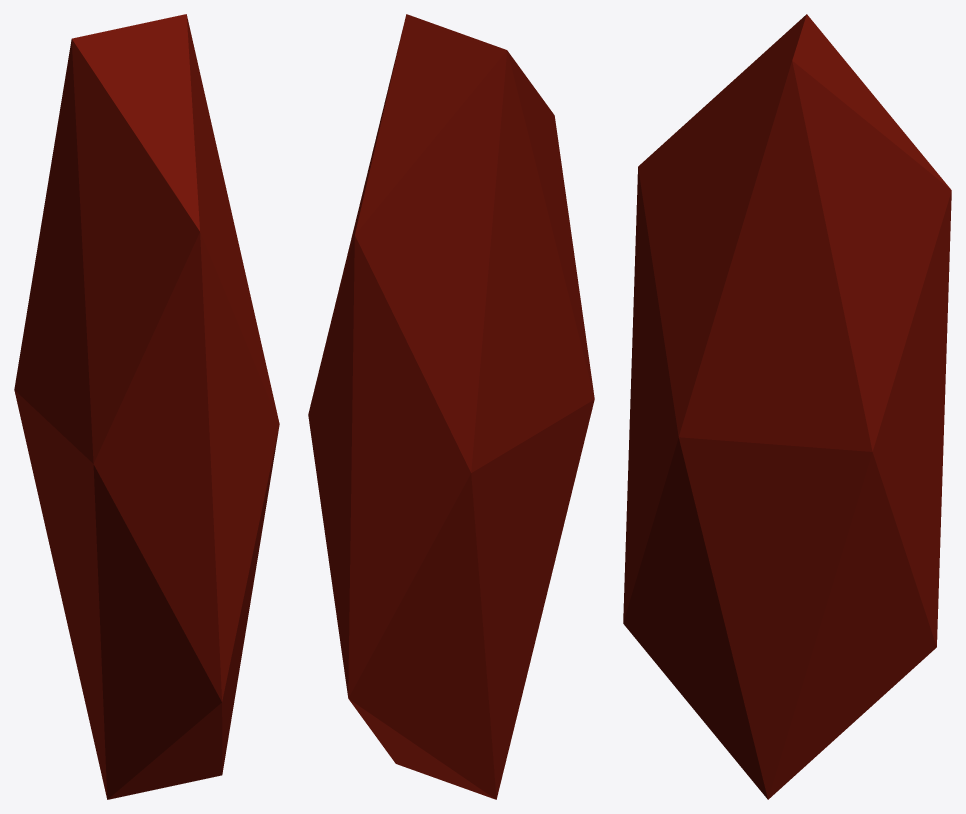
File: Platonic_9.gltf
The picture shows the model from 3 angles, left to right: view 1: azimuth 30°, elevation 25°; view 2: azimuth 150°, elevation 25°; view 3: azimuth 270°, elevation 25°; orthographic projection. The views are drawn at different scales.
Parts seen in each view (by area): view 1: Platonic_9; view 2: Platonic_9; view 3: Platonic_9.
Boxes of the visible parts, bbox=[...] form: Platonic_9: bbox=[14, 14, 279, 799]; Platonic_9: bbox=[308, 14, 594, 799]; Platonic_9: bbox=[623, 14, 951, 799].
Bounding box in the file's own units: 10.72 × 39.95 × 16.25.
